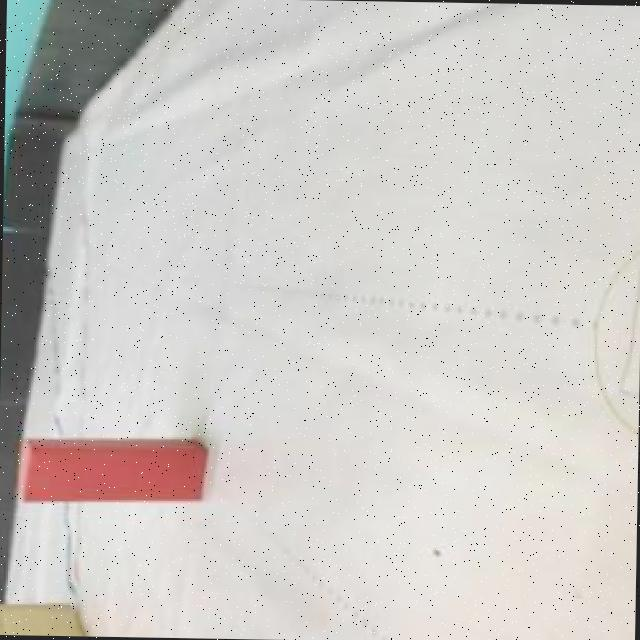redbox: (18, 435, 204, 507)
